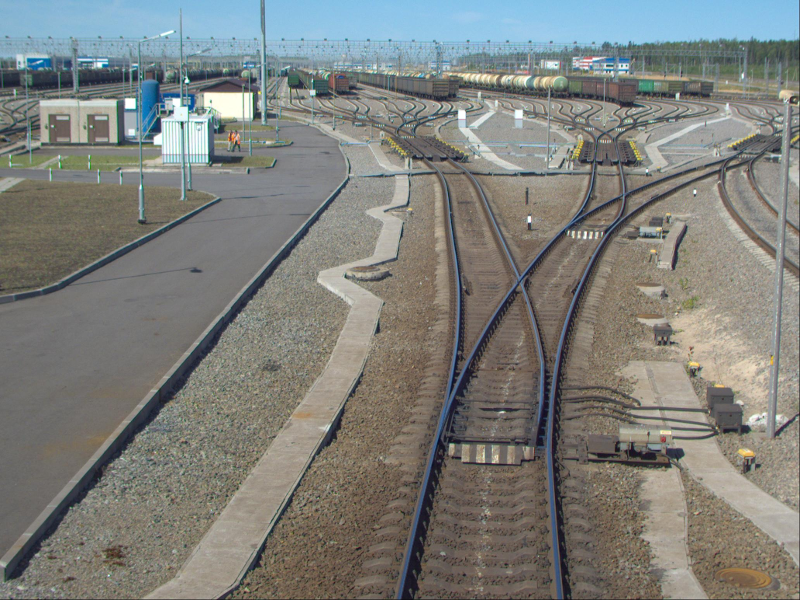right: (431, 245, 560, 451), (567, 185, 641, 232)
